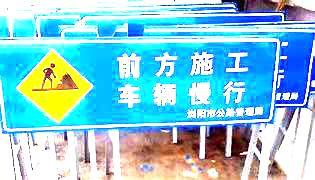sign: (1, 40, 271, 122)
